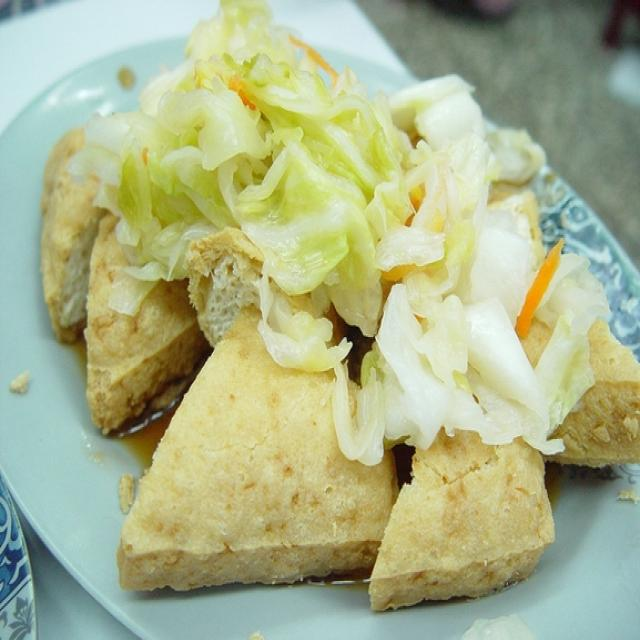豆腐料理: (15, 18, 619, 610)
